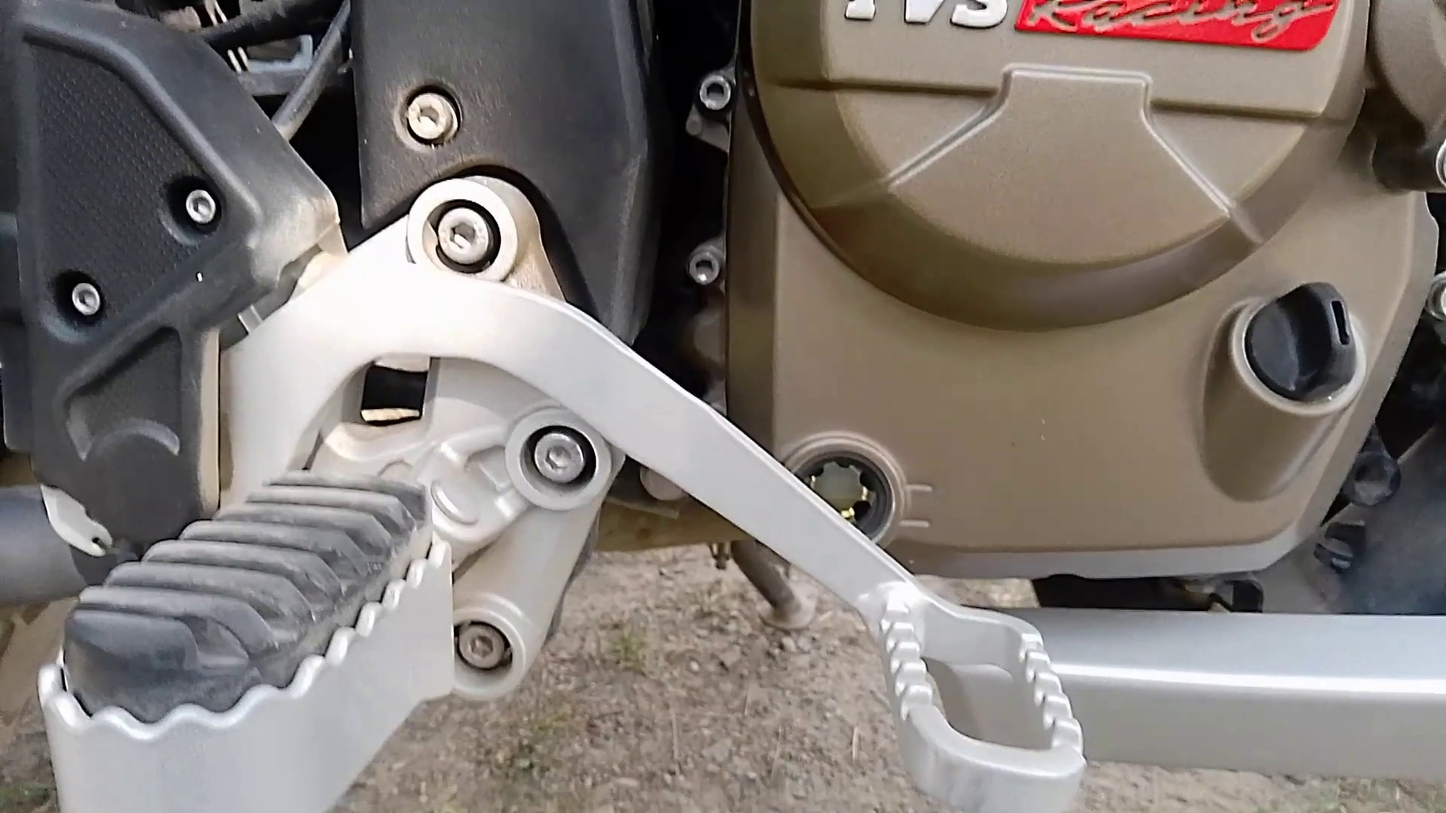engine: (702, 0, 1446, 598)
oil_cap: (1228, 263, 1384, 420)
oil_marker: (766, 420, 960, 563)
